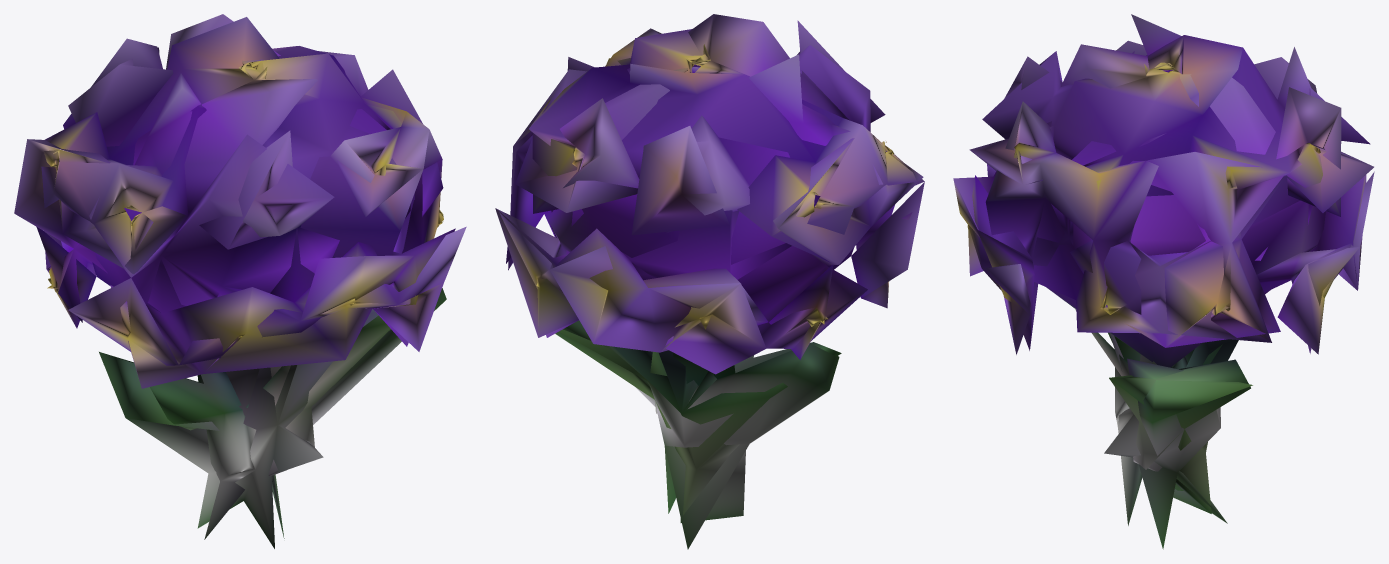
The model's file is field_flower_6.glb.
3 views of the same model, side by side, from view 1: azimuth 30°, elevation 25°; view 2: azimuth 150°, elevation 25°; view 3: azimuth 270°, elevation 25° (orthographic). The views are drawn at different scales.
Size of the model in its own units: 1.51 by 1.84 by 1.46.
